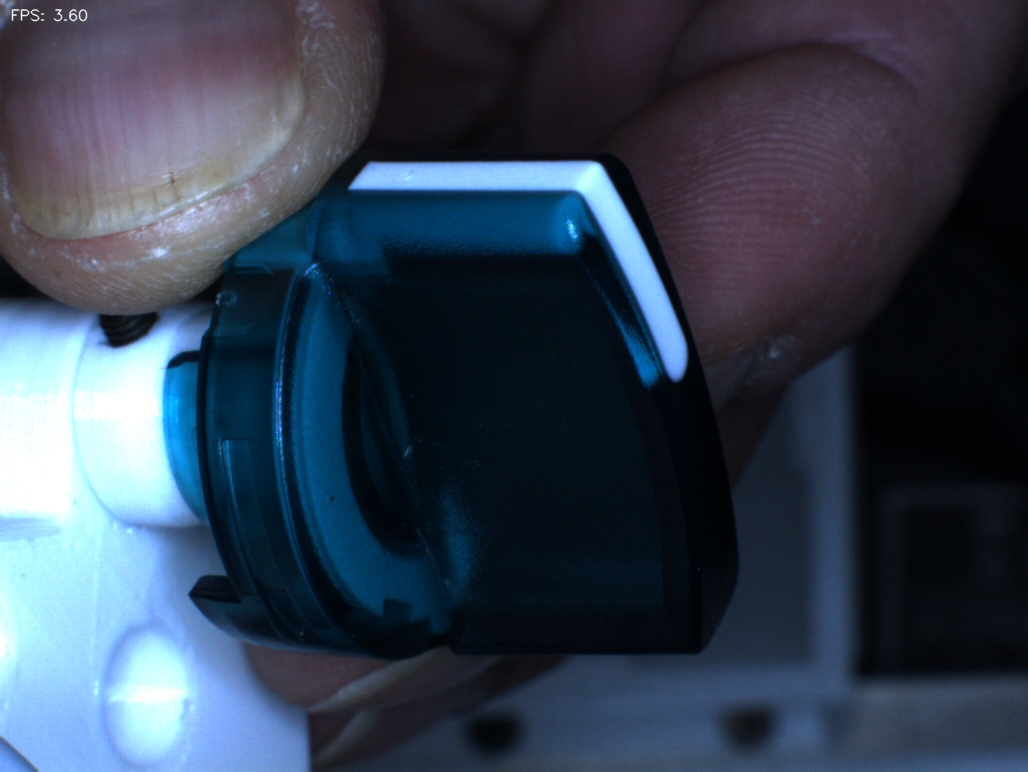PointNoir: (300, 461, 365, 529)
